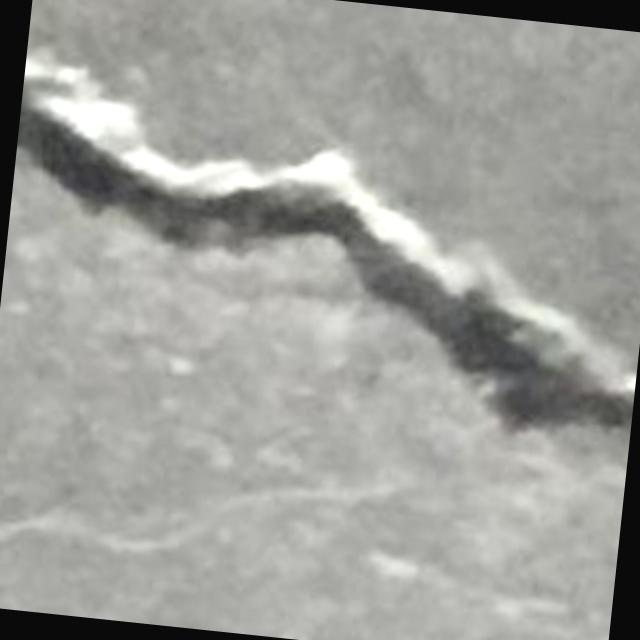crack: (16, 53, 634, 430)
